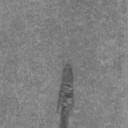oxide scale of plate system: (55, 60, 75, 128)
